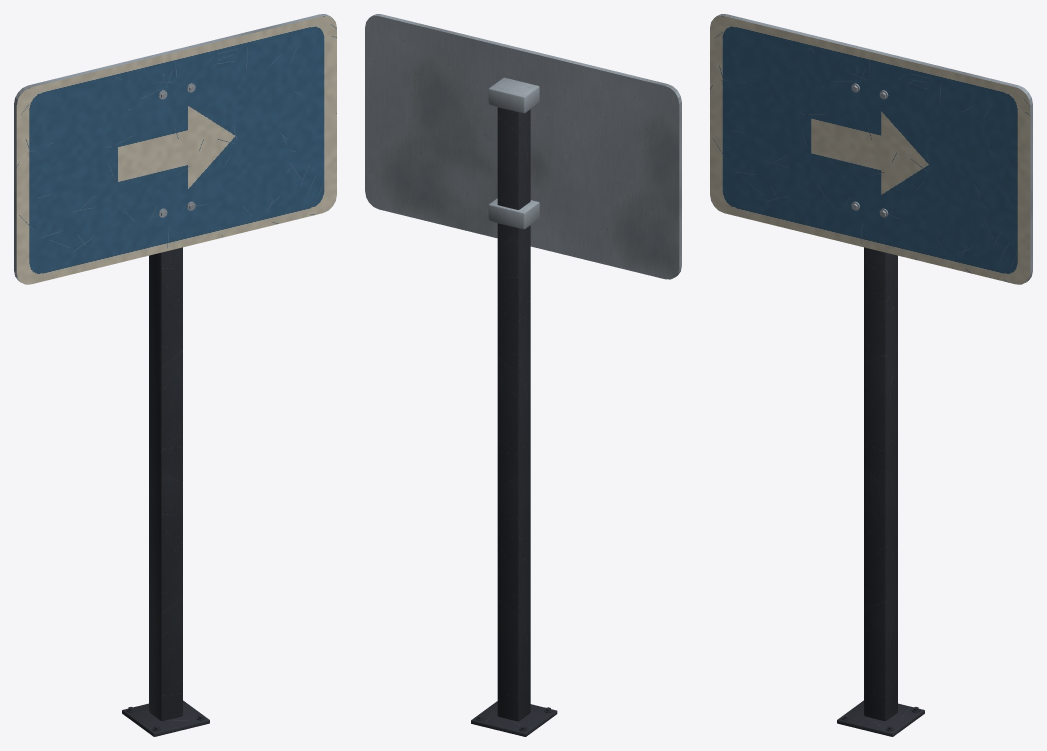
Rendered from direction_arrow_right.glb.
3 renders of one model, left to right at view 1: azimuth 30°, elevation 25°; view 2: azimuth 150°, elevation 25°; view 3: azimuth 330°, elevation 25°, orthographic.
Parts seen in each view (by area): view 1: ArrowRightMesh; view 2: ArrowRightMesh; view 3: ArrowRightMesh.
Part boxes in pixels (box(x1,y1,x2,y2)): ArrowRightMesh: box(14, 14, 336, 736); ArrowRightMesh: box(365, 14, 681, 736); ArrowRightMesh: box(710, 14, 1032, 736).
Bounding box in the file's own units: 0.68 × 1.37 × 0.12.
Materials: 3 (3 with a texture image).
